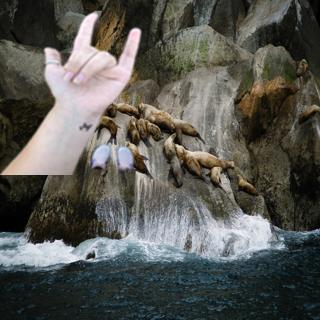ILY: (40, 8, 147, 116)
